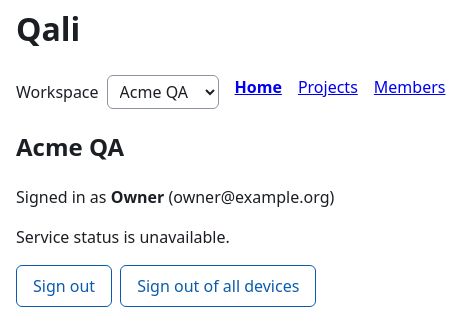
Test case: workspace selection › binds pages and requests to the chosen workspace
Expected: the link "Members" is shown, [374,75,445,109]
Select "Beta Labs" in the dropdown labelled "Workspace" at (163, 92), box [107,75,219,109]
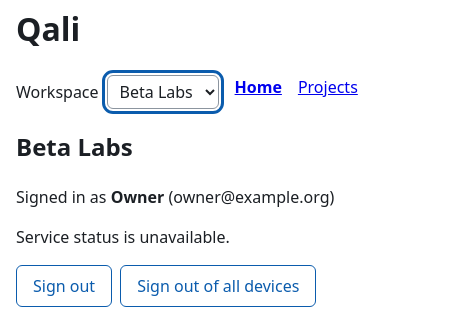
Now the heading "Beta Labs" is shown, box [16,130,133,163]
Now the link "Members" is gone
Click the link "Projects" at (328, 92), box [298,75,358,109]
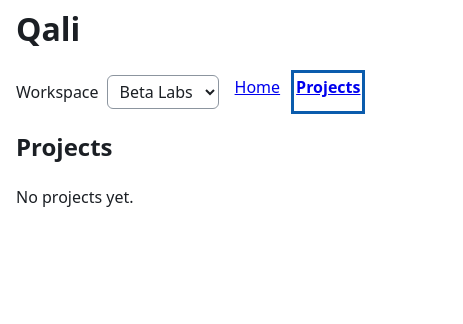
Now the text "No projects yet." is shown, box [16,186,134,208]
